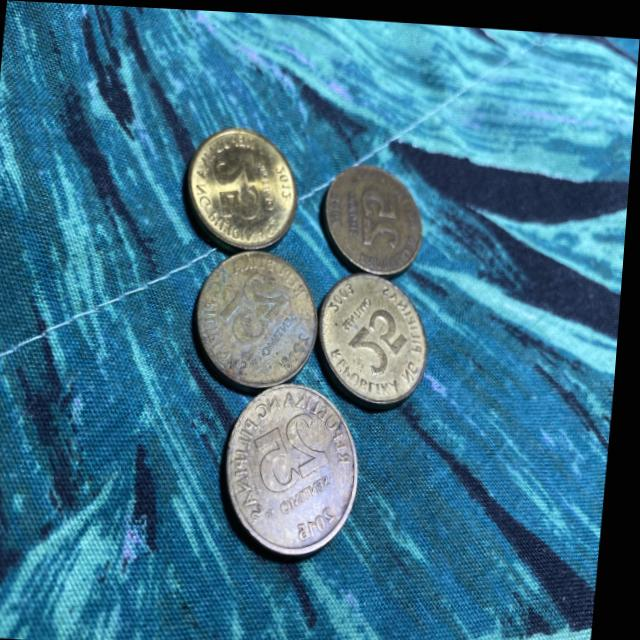25Cent_Old_Front: (259, 407, 338, 487), (222, 267, 294, 340), (353, 303, 412, 370), (214, 145, 266, 220), (357, 179, 406, 245)
